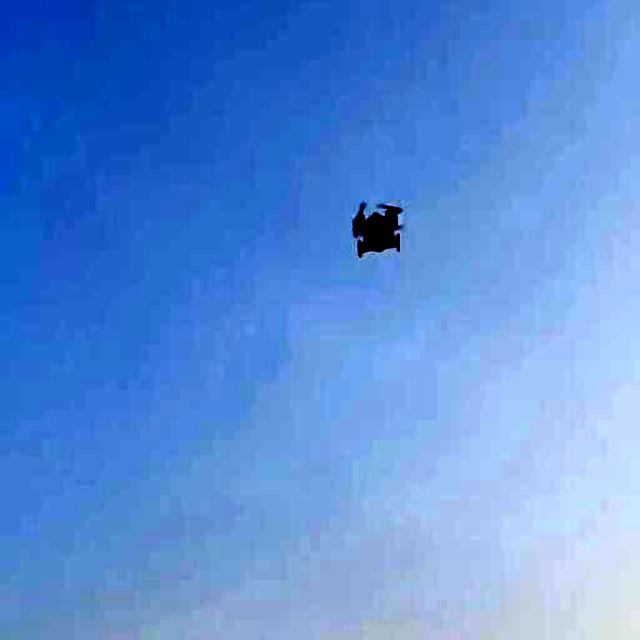bird: (341, 166, 418, 275)
